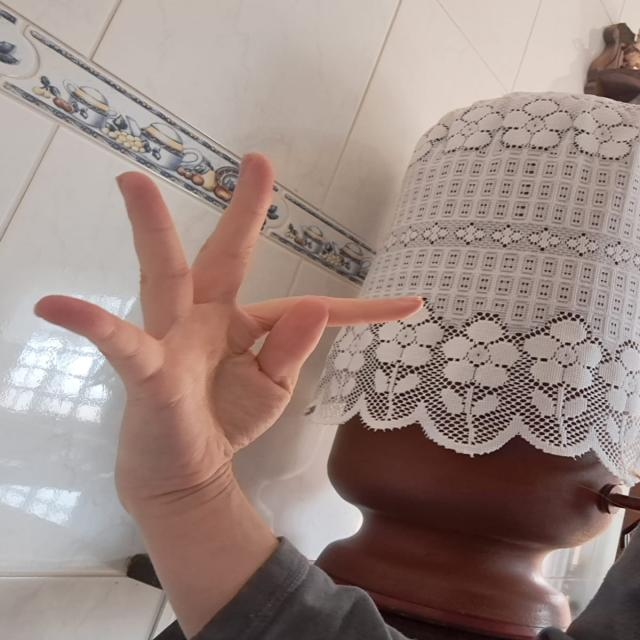T: (29, 146, 432, 488)
